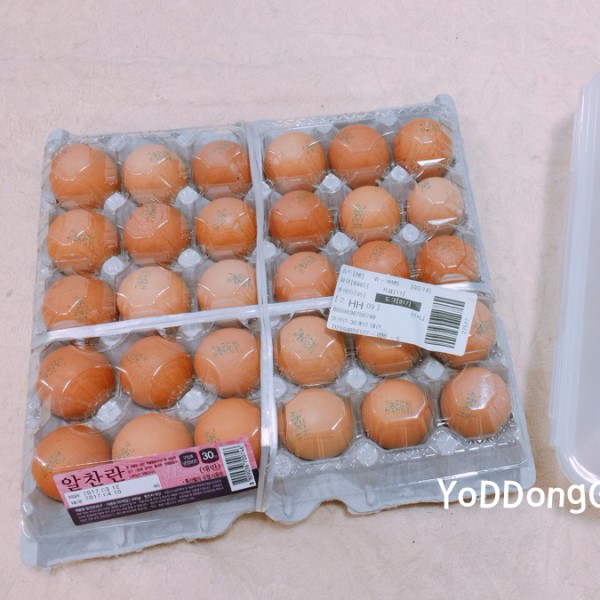egg: (37, 124, 508, 502)
